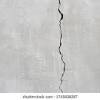crack: (55, 0, 66, 92)
